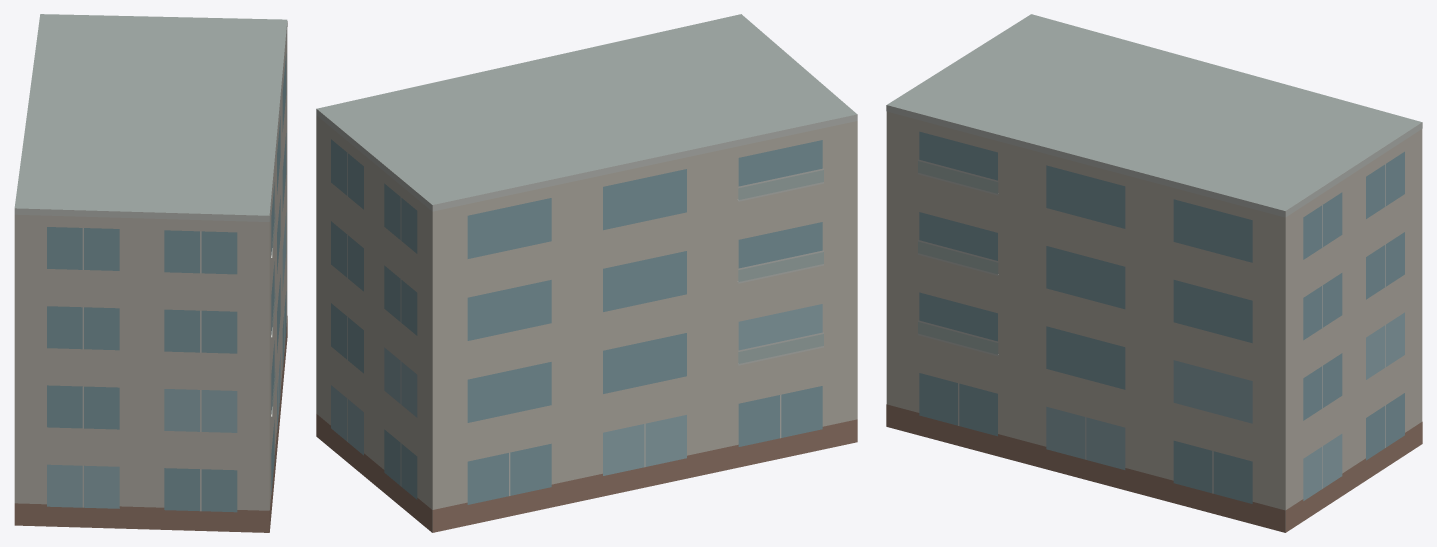
Rendered from survey-upis-32773034.glb.
3 views of the same model, side by side, from view 1: azimuth 30°, elevation 25°; view 2: azimuth 150°, elevation 25°; view 3: azimuth 270°, elevation 25° (orthographic). The views are drawn at different scales.
Parts seen in each view (by area): view 1: survey-upis-32773034.tmp; view 2: survey-upis-32773034.tmp; view 3: survey-upis-32773034.tmp.
Boxes of the visible parts, left/top/right/bottom form: survey-upis-32773034.tmp: left=14, top=14, right=287, bottom=532; survey-upis-32773034.tmp: left=316, top=14, right=857, bottom=532; survey-upis-32773034.tmp: left=886, top=14, right=1422, bottom=532.
Size of the model in its own units: 16.04 by 12.2 by 18.43.
